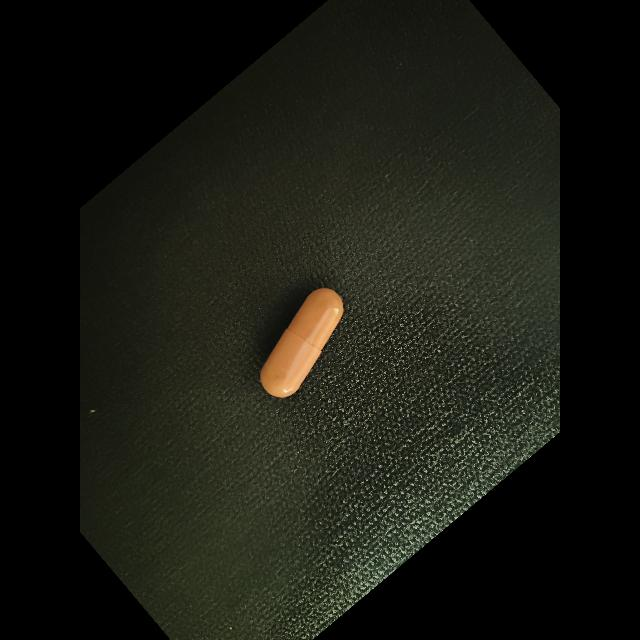Intact Capsule: (260, 288, 344, 398)
